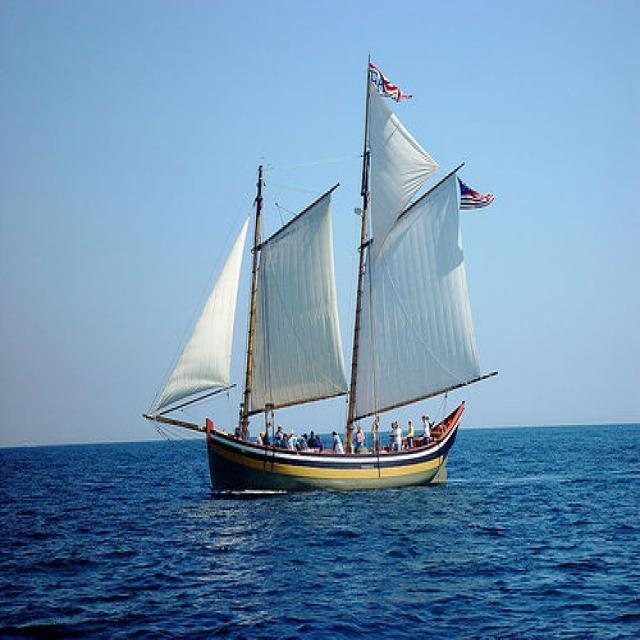Ship: (144, 56, 500, 497)
